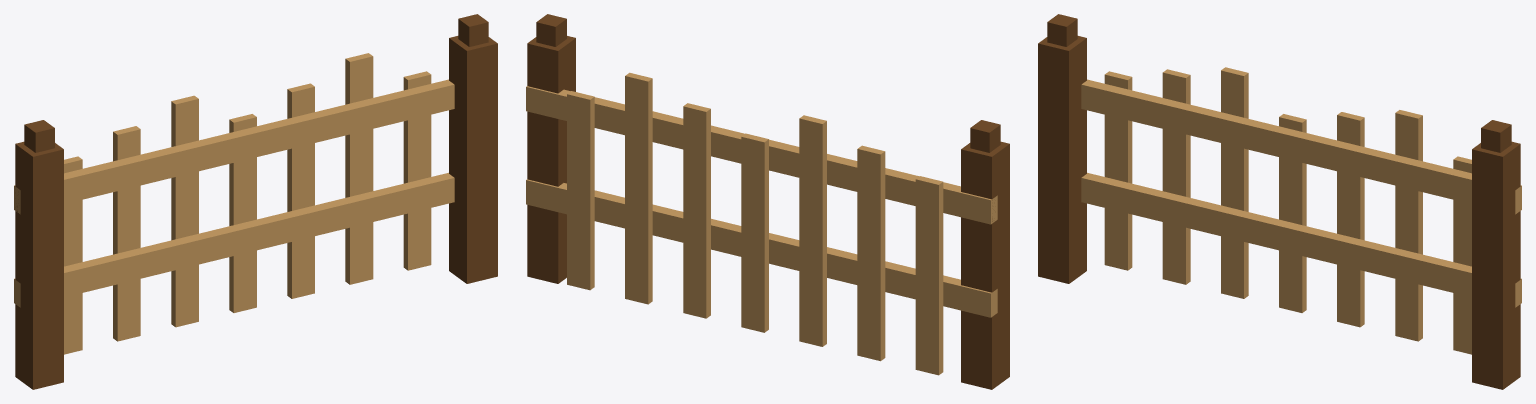
File: fence.glb
The picture shows the model from 3 angles, left to right: view 1: azimuth 30°, elevation 25°; view 2: azimuth 150°, elevation 25°; view 3: azimuth 330°, elevation 25°; orthographic projection.
Visible parts, largest first — view 1: Fence; view 2: Fence; view 3: Fence.
Boxes of the visible parts, x1,y1,x2,y2 form: Fence: (14, 14, 497, 389); Fence: (526, 14, 1009, 389); Fence: (1038, 14, 1521, 389).
Bounding box in the file's own units: 2.4 × 1.25 × 0.22.
